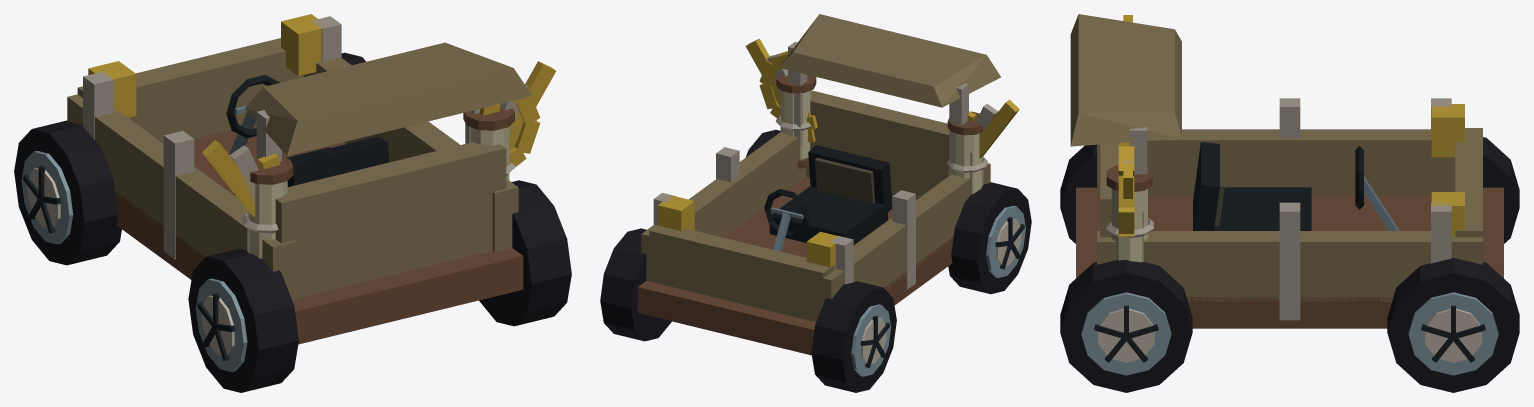
The model's file is kart.glb.
The picture shows the model from 3 angles, left to right: view 1: azimuth 30°, elevation 25°; view 2: azimuth 150°, elevation 25°; view 3: azimuth 270°, elevation 25°; orthographic projection. The views are drawn at different scales.
Visible parts, largest first — view 1: identity-carriage-carriage-timber-coach, wheel-rear-left, wheel-front-left, wheel-rear-right, identity-carriage-motif-scrolls, identity-carriage-driver-cockpit, identity-carriage-motif-feathers, identity-carriage-motif-moon; view 2: identity-carriage-carriage-timber-coach, identity-carriage-driver-cockpit, wheel-front-left, wheel-rear-left, wheel-front-right, identity-carriage-motif-scrolls, identity-carriage-motif-feathers, identity-carriage-motif-moon; view 3: identity-carriage-carriage-timber-coach, wheel-front-right, wheel-rear-right, identity-carriage-driver-cockpit, identity-carriage-motif-scrolls, wheel-front-left, wheel-rear-left, identity-carriage-motif-moon, identity-carriage-motif-feathers.
Part boxes in pixels (left/top/right/bottom): identity-carriage-carriage-timber-coach: left=67, top=14, right=532, bottom=344; wheel-rear-left: left=188, top=248, right=298, bottom=392; wheel-front-left: left=14, top=120, right=121, bottom=265; wheel-rear-right: left=479, top=180, right=571, bottom=326; identity-carriage-motif-scrolls: left=241, top=104, right=515, bottom=258; identity-carriage-driver-cockpit: left=226, top=75, right=388, bottom=194; identity-carriage-motif-feathers: left=202, top=61, right=556, bottom=216; identity-carriage-motif-moon: left=509, top=96, right=540, bottom=166; identity-carriage-carriage-timber-coach: left=637, top=14, right=1000, bottom=355; identity-carriage-driver-cockpit: left=764, top=145, right=892, bottom=251; wheel-front-left: left=811, top=281, right=896, bottom=392; wheel-rear-left: left=948, top=182, right=1031, bottom=294; wheel-front-right: left=600, top=228, right=671, bottom=341; identity-carriage-motif-scrolls: left=775, top=75, right=988, bottom=193; identity-carriage-motif-feathers: left=745, top=38, right=1019, bottom=175; identity-carriage-motif-moon: left=759, top=51, right=817, bottom=129; identity-carriage-carriage-timber-coach: left=1070, top=14, right=1503, bottom=328; wheel-front-right: left=1387, top=257, right=1519, bottom=392; wheel-rear-right: left=1060, top=260, right=1192, bottom=392; identity-carriage-driver-cockpit: left=1193, top=142, right=1399, bottom=230; identity-carriage-motif-scrolls: left=1106, top=165, right=1153, bottom=262; wheel-front-left: left=1483, top=137, right=1519, bottom=243; wheel-rear-left: left=1060, top=144, right=1096, bottom=243; identity-carriage-motif-moon: left=1118, top=142, right=1134, bottom=236; identity-carriage-motif-feathers: left=1123, top=15, right=1132, bottom=198.
Bounding box in the file's own units: 2.18 × 1.63 × 2.64.
